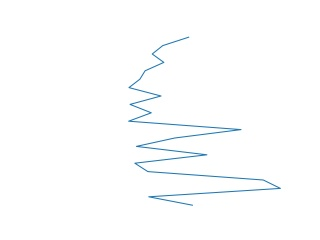crevasseRiverBedLagDeposit: (125, 34, 285, 209)
